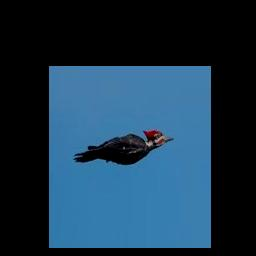Woodpecker: (73, 129, 173, 165)
